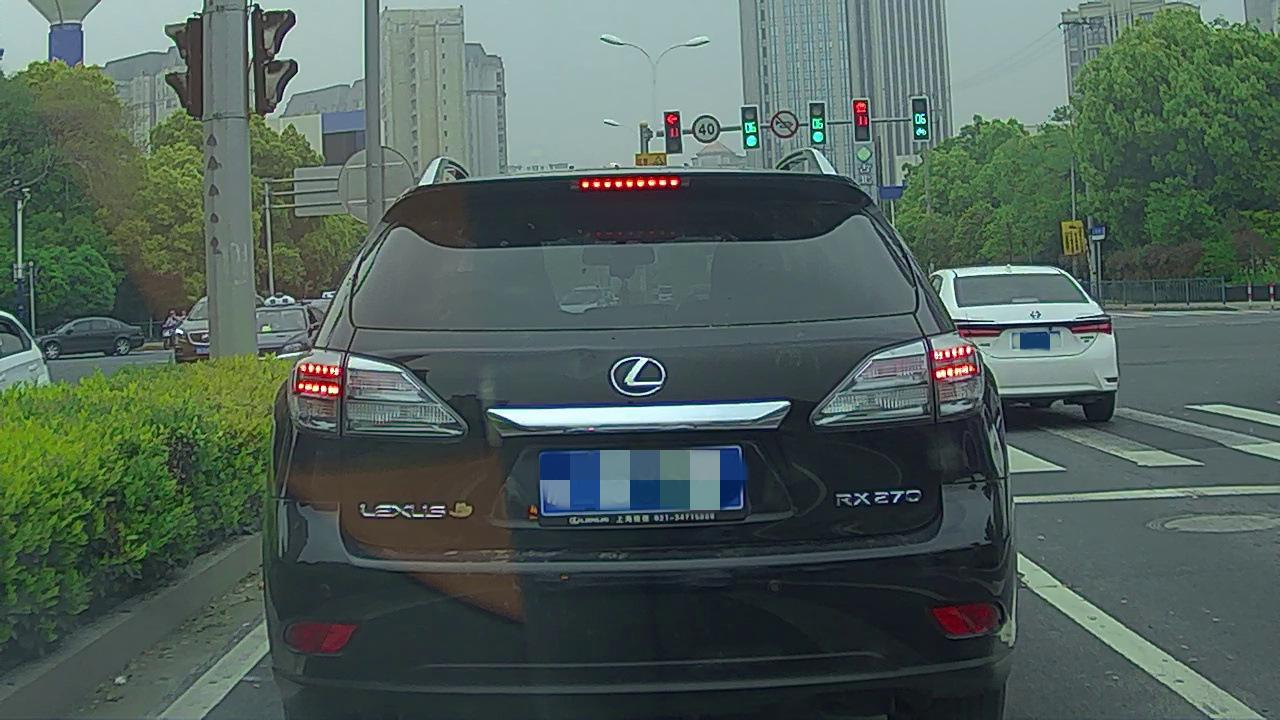traffic_light: (739, 108, 759, 150), (853, 99, 872, 143), (664, 109, 682, 155), (913, 98, 930, 141), (809, 100, 825, 142)
